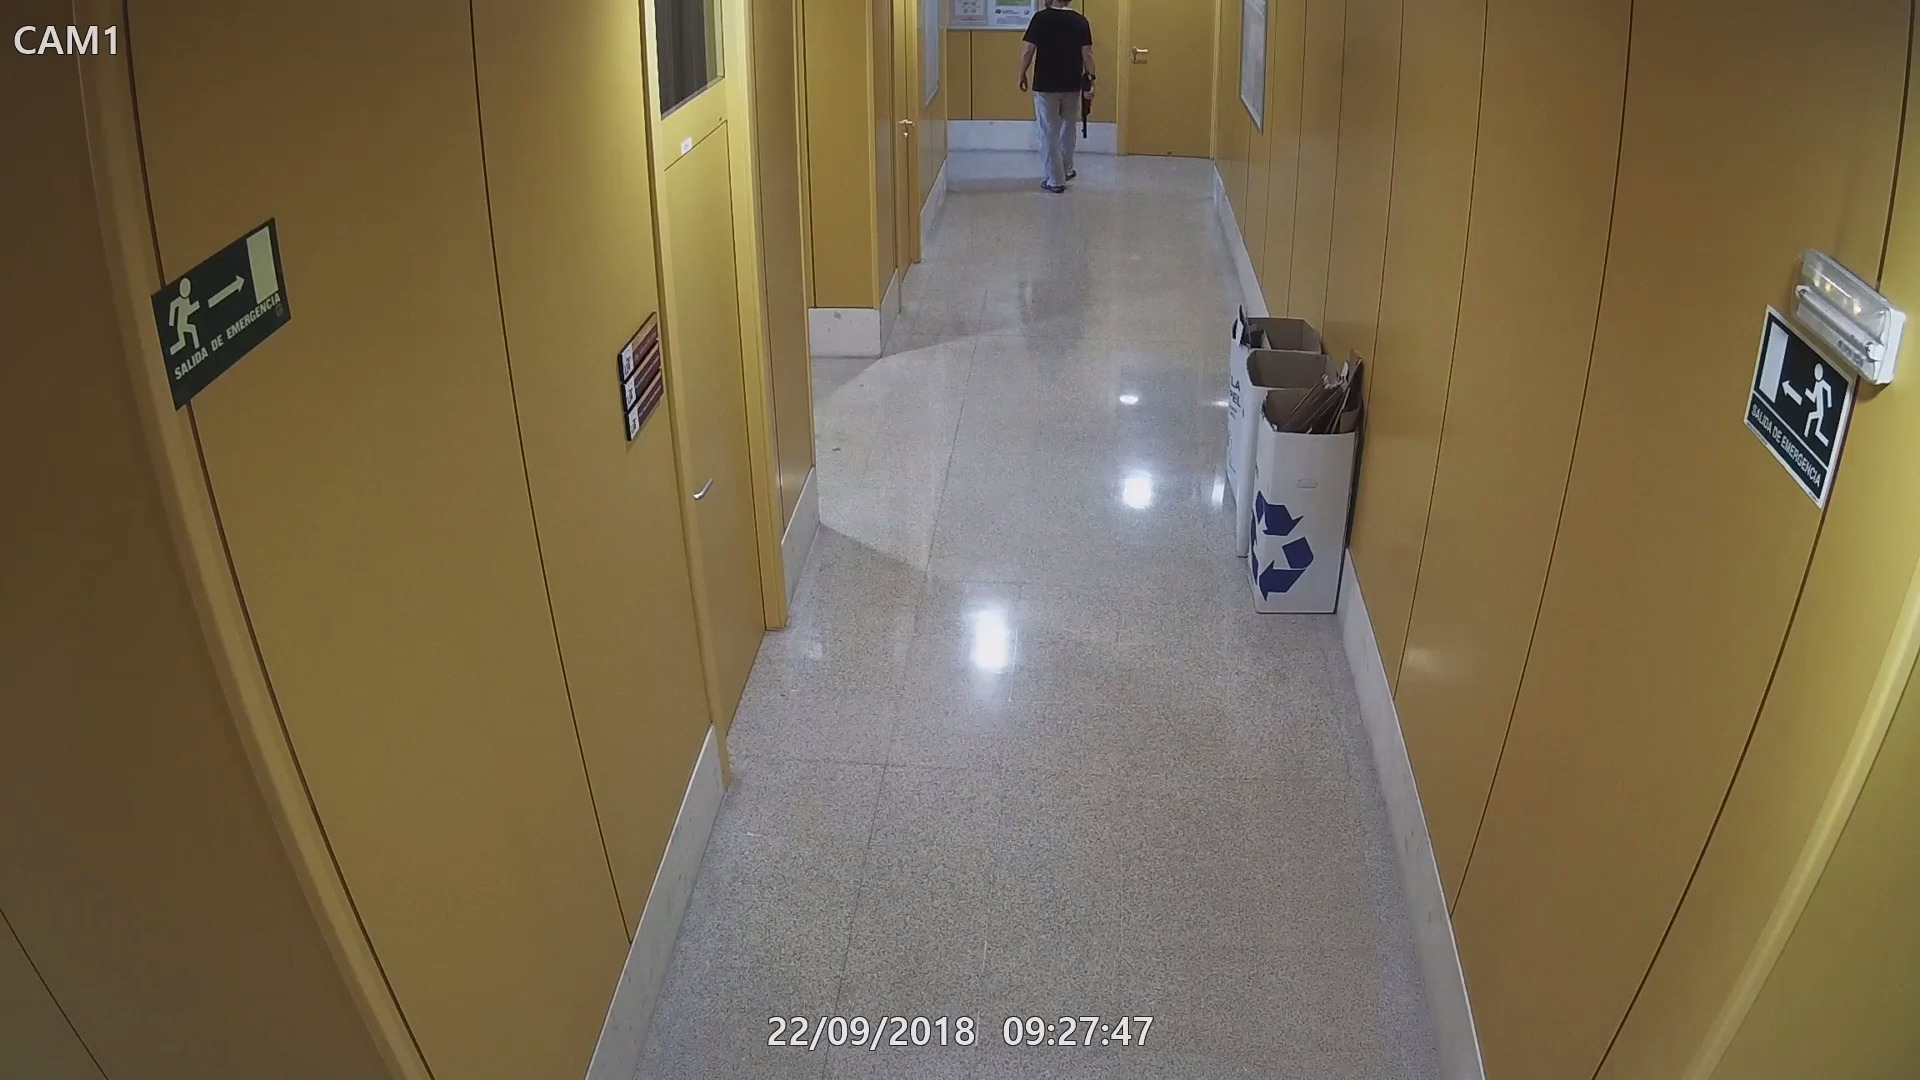Short_rifle: (1077, 61, 1095, 145)
